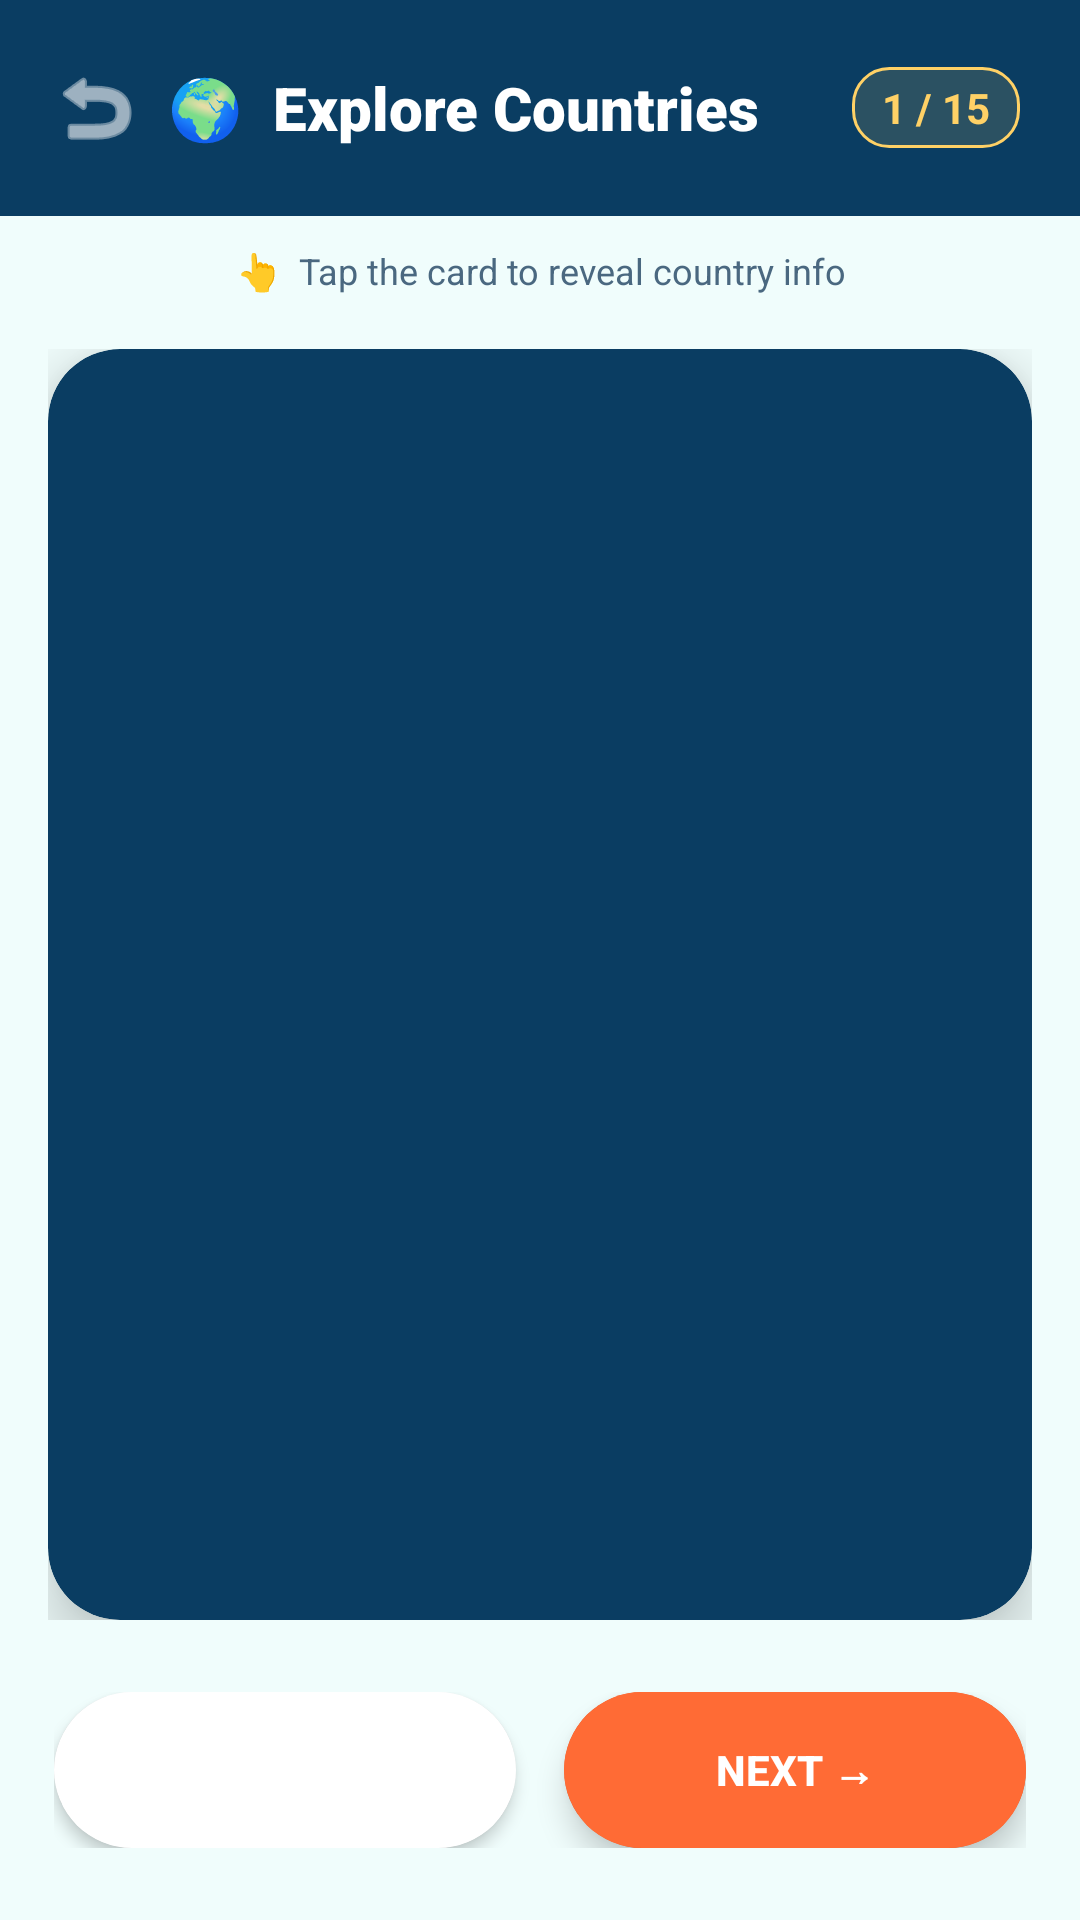

Icon bounding boxes for this 1080 x 1920 phone screenshot, format (left=x1, top=y1, right=x2, bottom=y2):
Back: (left=63, top=77, right=132, bottom=140)
